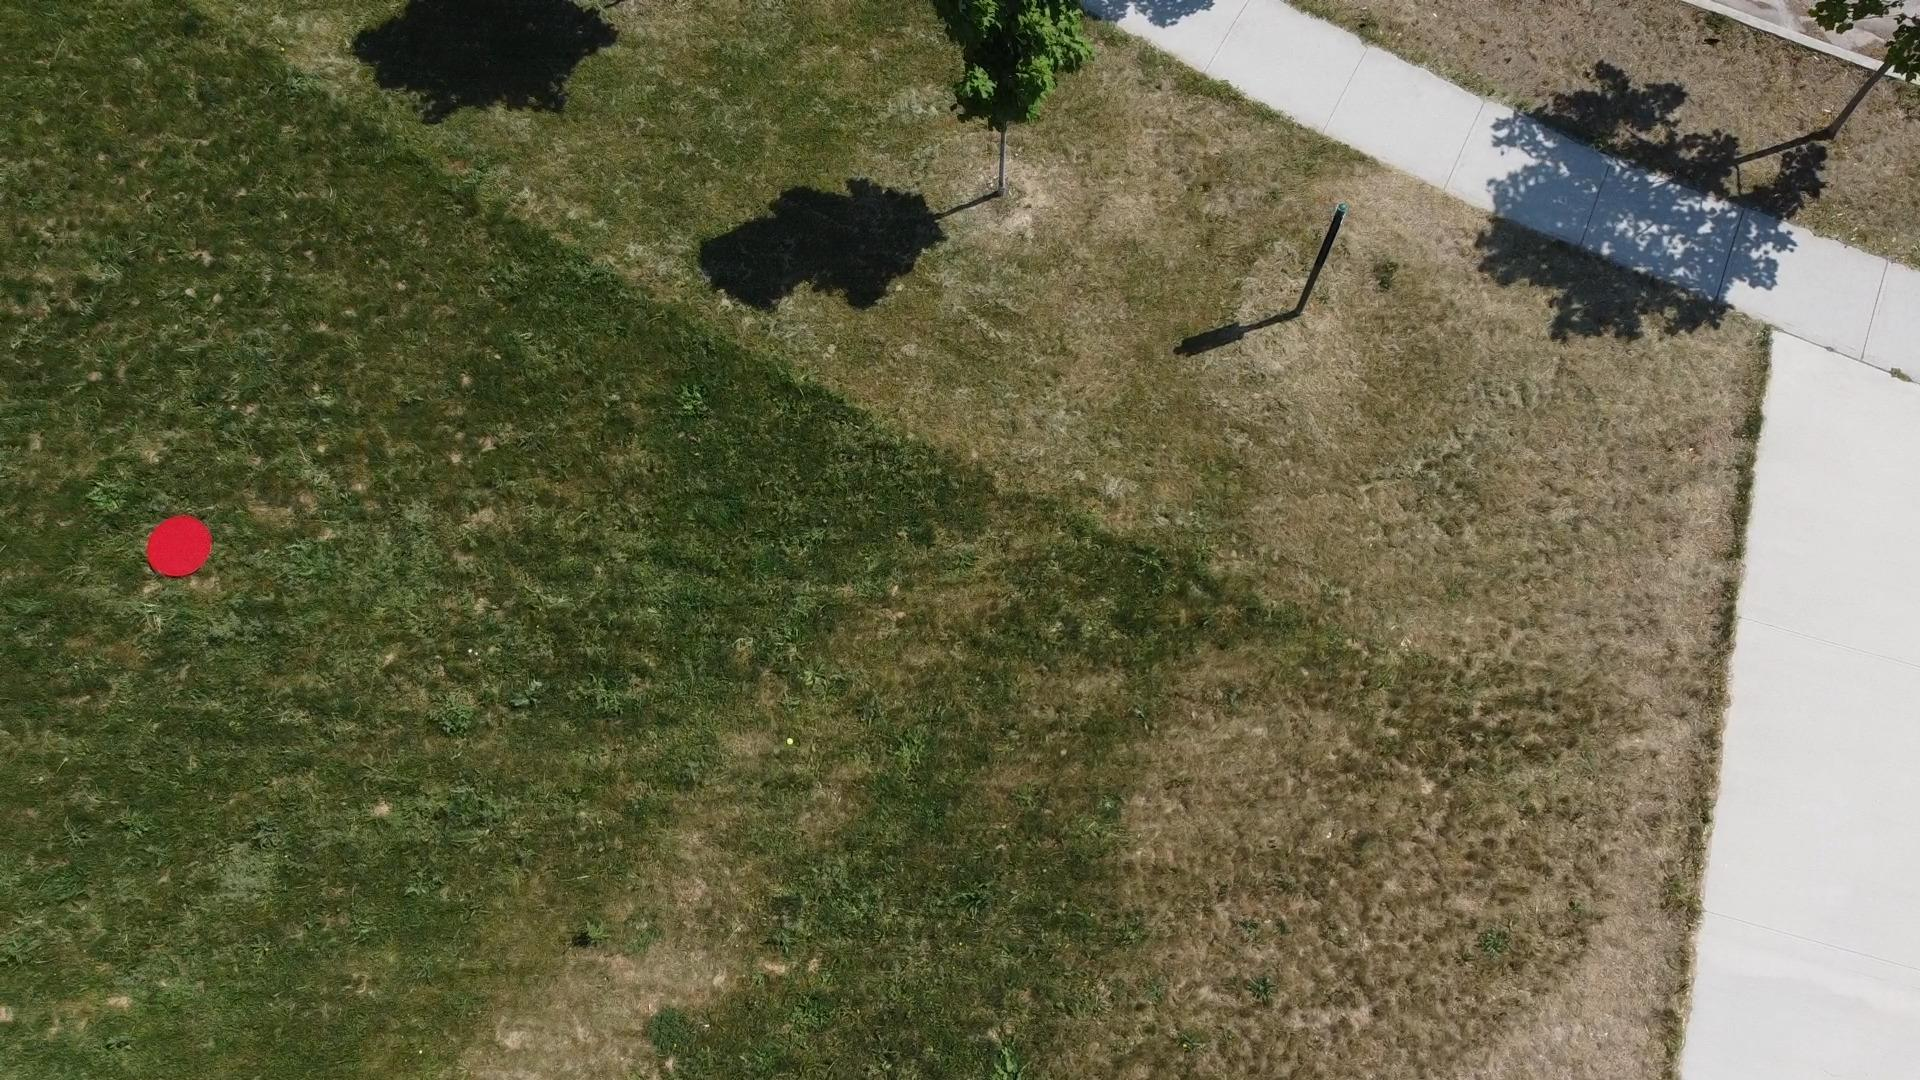Red: (142, 513, 218, 580)
